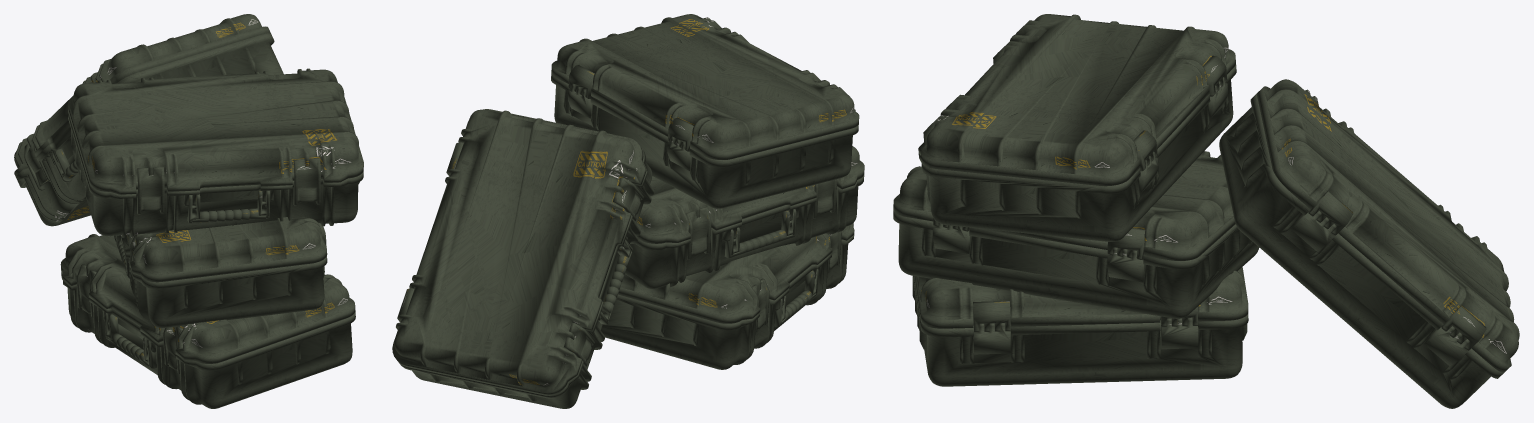
Rendered from boxessprava1.fbx.
3 views of the same model, side by side, from view 1: azimuth 30°, elevation 25°; view 2: azimuth 150°, elevation 25°; view 3: azimuth 270°, elevation 25° (orthographic). The views are drawn at different scales.
Visible parts, largest first — view 1: Box.009; view 2: Box.009; view 3: Box.009.
Boxes of the visible parts, box(x1,y1,x2,y2) form: Box.009: box(14, 14, 363, 408); Box.009: box(392, 14, 864, 408); Box.009: box(893, 14, 1519, 408).
Bounding box in the file's own units: 136 × 110 × 220.
